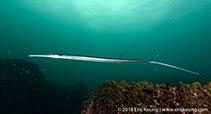Fistularia commersonii: (26, 47, 199, 76)
